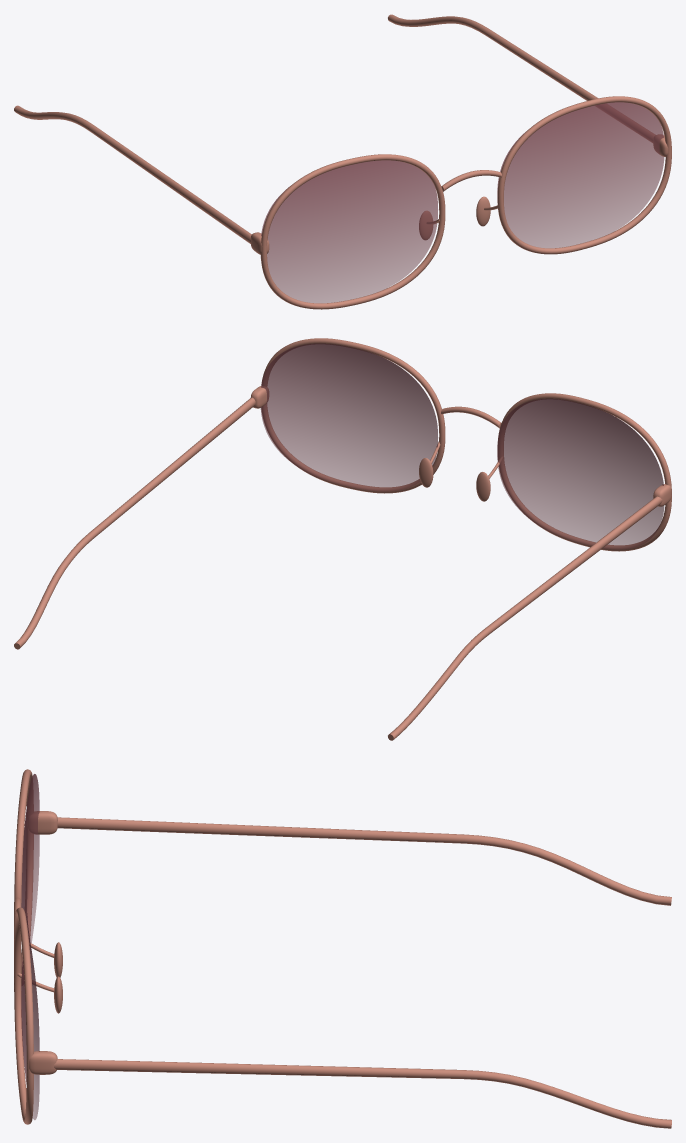
The model's file is TO-OVL-02.glb.
3 views of the same model, one above another, from view 1: azimuth 30°, elevation 25°; view 2: azimuth 150°, elevation 25°; view 3: azimuth 270°, elevation 25° (orthographic). The views are drawn at different scales.
Visible parts, largest first — view 1: lenses, frame; view 2: lenses, frame; view 3: frame, lenses.
Part boxes in pixels (x1=…): lenses: x1=260, y1=102, x2=664, y2=302; frame: x1=14, y1=14, x2=671, y2=309; lenses: x1=260, y1=343, x2=664, y2=549; frame: x1=14, y1=338, x2=671, y2=740; frame: x1=14, y1=769, x2=671, y2=1128; lenses: x1=21, y1=774, x2=39, y2=1119.
Size of the model in its own units: 0.1283 by 0.0435 by 0.1449.
